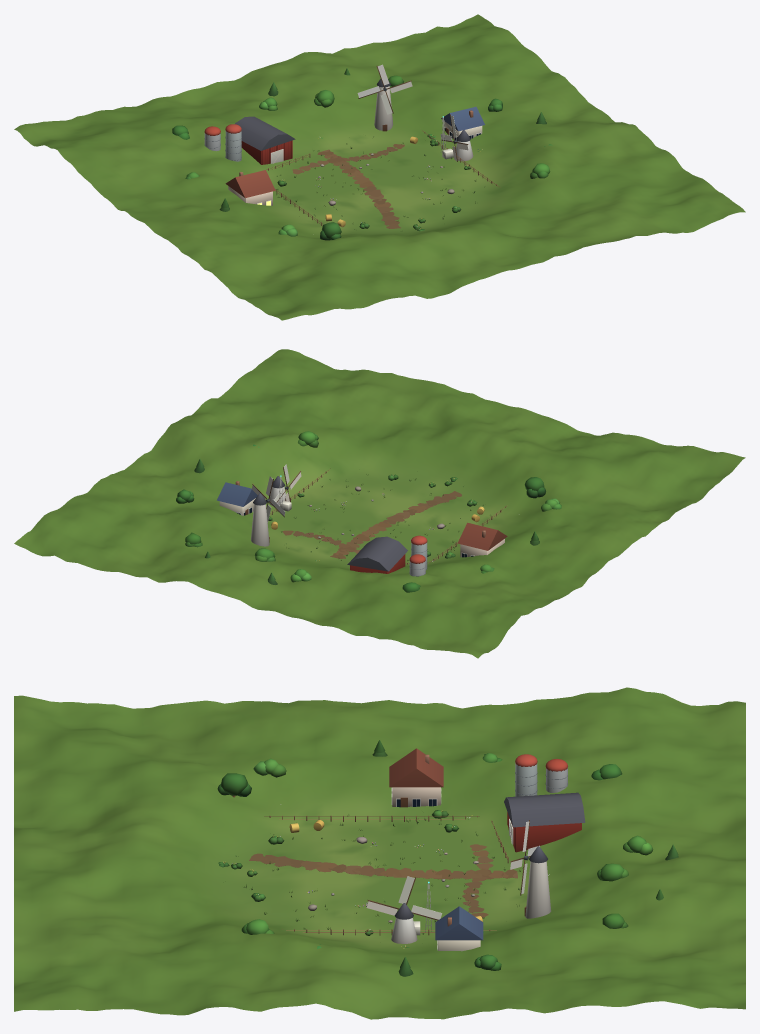
File: journey_country.glb
3 views of the same model, one above another, from view 1: azimuth 30°, elevation 25°; view 2: azimuth 150°, elevation 25°; view 3: azimuth 270°, elevation 25° (orthographic). The views are drawn at different scales.
Visible parts, largest first — view 1: Scenery_Journey Ground.001, Scenery_Journey Paint.001, Scenery_Journey Foliage.001, Scenery_Journey Wood.001, Scenery_Journey Plaster.001, Scenery_Journey Steel.001, Scenery_Journey Fabric.001; view 2: Scenery_Journey Ground.001, Scenery_Journey Paint.001, Scenery_Journey Foliage.001, Scenery_Journey Plaster.001, Scenery_Journey Wood.001, Scenery_Journey Steel.001, Scenery_Journey Fabric.001; view 3: Scenery_Journey Ground.001, Scenery_Journey Paint.001, Scenery_Journey Foliage.001, Scenery_Journey Plaster.001, Scenery_Journey Wood.001, Scenery_Journey Steel.001, Scenery_Journey Fabric.001.
Part boxes in pixels (x1,y1,x2,y2): Scenery_Journey Ground.001: (14,14,745,320); Scenery_Journey Paint.001: (225,78,484,228); Scenery_Journey Foliage.001: (172,68,552,240); Scenery_Journey Wood.001: (241,65,500,225); Scenery_Journey Plaster.001: (228,86,482,205); Scenery_Journey Steel.001: (204,87,457,161); Scenery_Journey Fabric.001: (325,64,468,227); Scenery_Journey Ground.001: (14,349,745,658); Scenery_Journey Paint.001: (217,475,507,571); Scenery_Journey Foliage.001: (176,431,561,592); Scenery_Journey Plaster.001: (219,487,504,557); Scenery_Journey Wood.001: (245,467,507,573); Scenery_Journey Steel.001: (266,476,427,576); Scenery_Journey Fabric.001: (252,464,484,529); Scenery_Journey Ground.001: (14,687,745,1019); Scenery_Journey Paint.001: (223,748,585,950); Scenery_Journey Foliage.001: (217,740,678,976); Scenery_Journey Plaster.001: (391,787,551,951); Scenery_Journey Wood.001: (264,797,581,935); Scenery_Journey Steel.001: (425,754,568,931); Scenery_Journey Fabric.001: (289,820,539,921).
Size of the model in its own units: 120 by 18.96 by 120.
